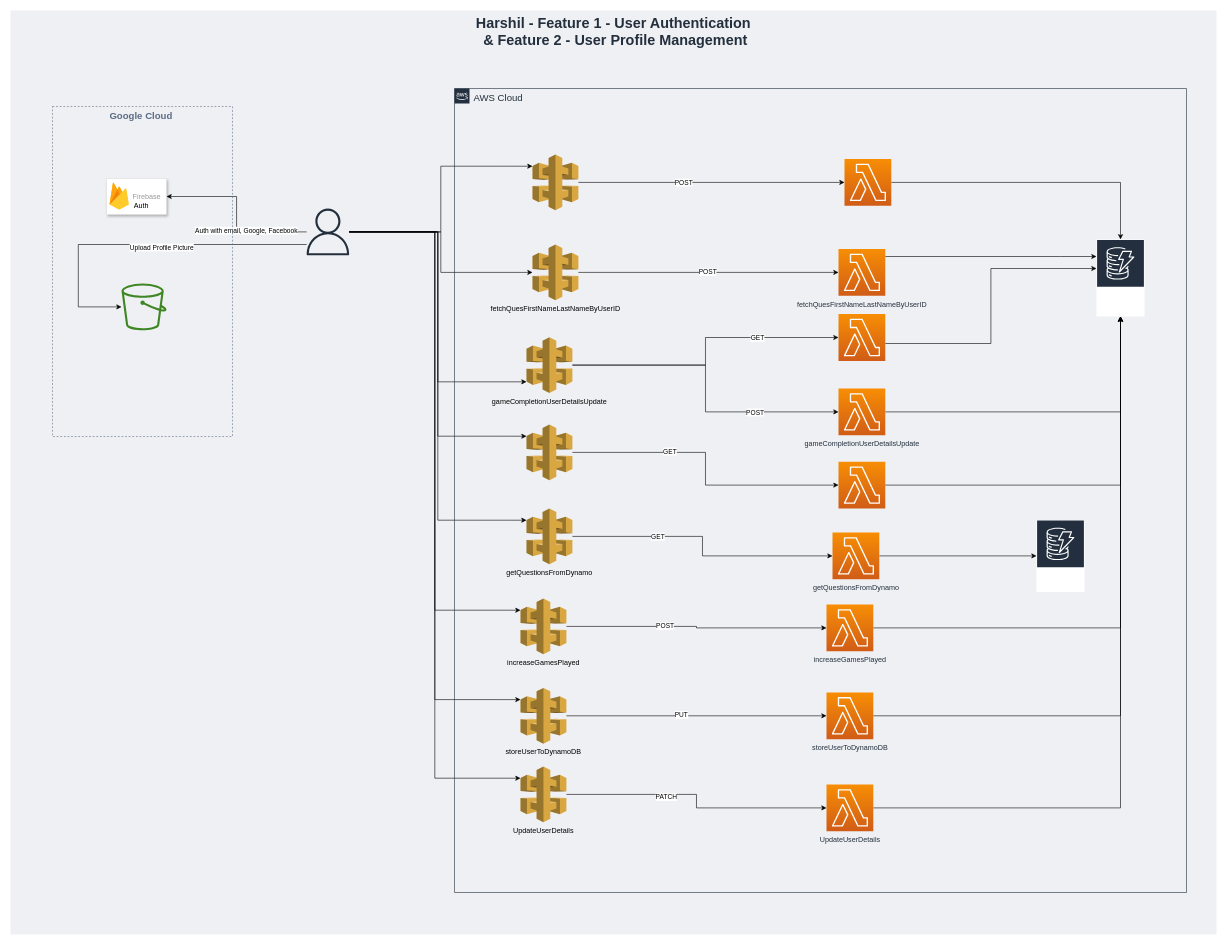
Image size: 1226x944. Some labels were removed from this diagram. Here are the shapes that lost their labels. From the top down, the centre of each, then its label:
At [555,182]: "check_security_question_dynamo".
At [867,182]: "CheckSecurityQuestions".
At [1120,277]: "Amazon DynamoDB Users".
At [143,306]: "Firebase Bucket".
At [861,337]: "getGameDetailsByUserID".
At [549,452]: "getAllUsers".
At [861,484]: "getAllUsersSDP".
At [1060,555]: "Amazon DynamoDB sdpQuestions".
